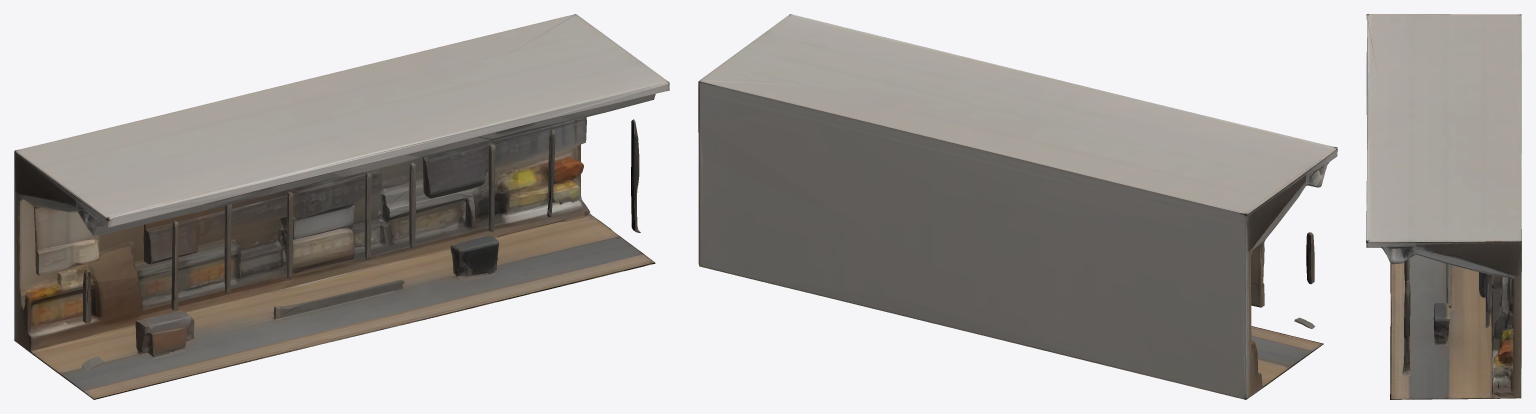
3 renders of one model, left to right at view 1: azimuth 30°, elevation 25°; view 2: azimuth 150°, elevation 25°; view 3: azimuth 270°, elevation 25°, orthographic. The views are drawn at different scales.
Parts seen in each view (by area): view 1: geometry_0; view 2: geometry_0; view 3: geometry_0.
Boxes of the visible parts, <box> form: geometry_0: <box>14,14,669,399</box>; geometry_0: <box>698,14,1337,399</box>; geometry_0: <box>1366,14,1521,399</box>.
Size of the model in its own units: 1 by 0.328 by 0.29.
Materials: 1 (1 with a texture image).
